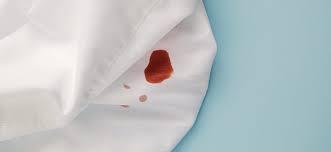blood: (144, 49, 175, 84)
